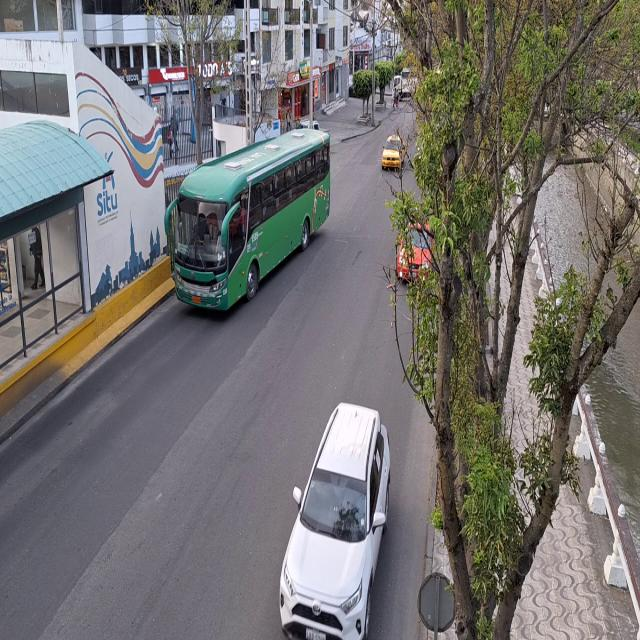BUS: (173, 140, 333, 318)
SED: (382, 135, 406, 173)
SUV: (279, 399, 392, 639)
